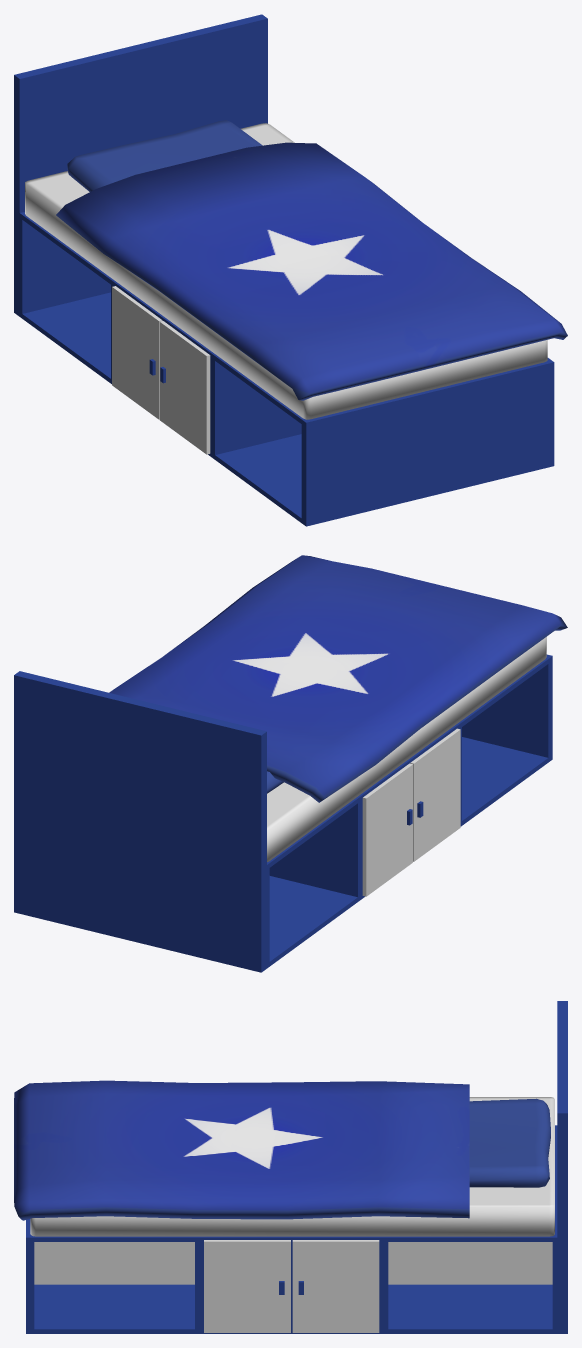
File: bed_1.glb
3 renders of one model, top to bottom at view 1: azimuth 30°, elevation 25°; view 2: azimuth 150°, elevation 25°; view 3: azimuth 270°, elevation 25°, orthographic. The views are drawn at different scales.
Visible parts, largest first — view 1: Cube_1, Cube.004_5, Cube.002_3, Cube.003_4; view 2: Cube_1, Cube.004_5, Cube.002_3; view 3: Cube.004_5, Cube_1, Cube.002_3, Cube.003_4.
Boxes of the visible parts, x1,y1,x2,y2 form: Cube_1: (14, 14, 554, 526); Cube.004_5: (56, 142, 567, 400); Cube.002_3: (25, 123, 547, 419); Cube.003_4: (67, 120, 262, 191); Cube_1: (14, 654, 552, 972); Cube.004_5: (109, 555, 567, 802); Cube.002_3: (267, 637, 546, 861); Cube.004_5: (14, 1080, 469, 1220); Cube_1: (26, 1001, 567, 1333); Cube.002_3: (30, 1097, 554, 1236); Cube.003_4: (469, 1098, 550, 1187).
Size of the model in its own units: 1.09 by 0.9161 by 2.09.
Materials: 4 (1 with a texture image).
